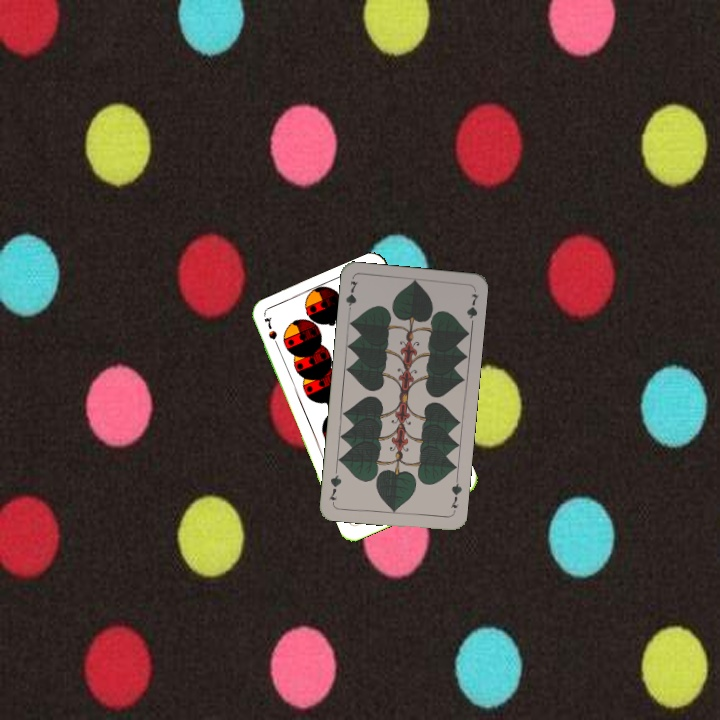G7: (342, 277, 360, 317), (447, 475, 464, 516)
S7: (260, 313, 282, 352)
